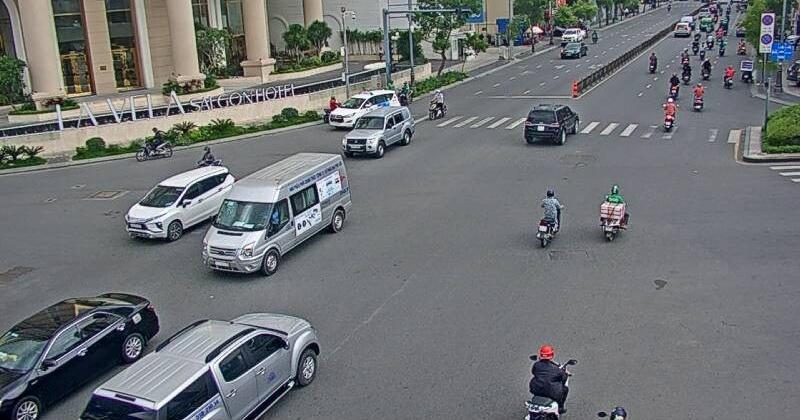xe hoi: (77, 310, 323, 420), (0, 290, 160, 420), (124, 166, 232, 241)
xe may: (522, 342, 579, 420), (599, 187, 627, 243), (537, 188, 562, 243)
xe tai: (202, 155, 360, 276)
